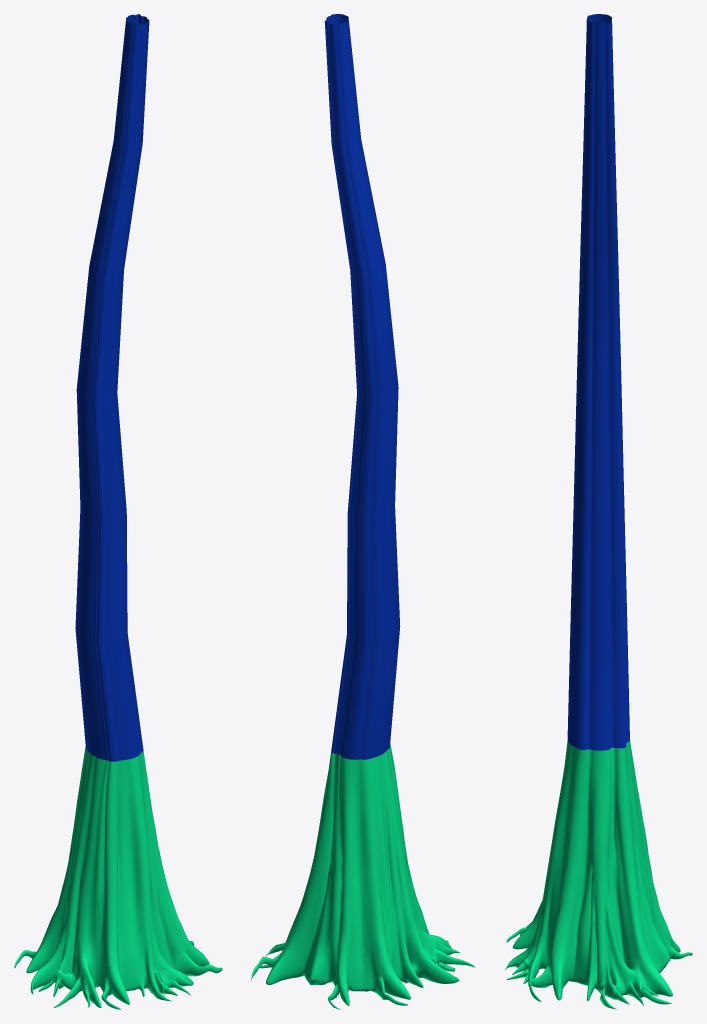
Rendered from SM_E_CypressTree_Corrupted_Small_02.fbx.
The picture shows the model from 3 angles, left to right: view 1: azimuth 30°, elevation 25°; view 2: azimuth 150°, elevation 25°; view 3: azimuth 270°, elevation 25°; orthographic projection.
Parts seen in each view (by area): view 1: SM_E_CypressTree_Corrupted_Small_02; view 2: SM_E_CypressTree_Corrupted_Small_02; view 3: SM_E_CypressTree_Corrupted_Small_02.
Boxes of the visible parts, box(x1,y1,x2,y2) form: SM_E_CypressTree_Corrupted_Small_02: box(14, 14, 222, 1009); SM_E_CypressTree_Corrupted_Small_02: box(251, 14, 475, 1009); SM_E_CypressTree_Corrupted_Small_02: box(504, 14, 692, 1009).
Size of the model in its own units: 76.47 by 392 by 69.56.
